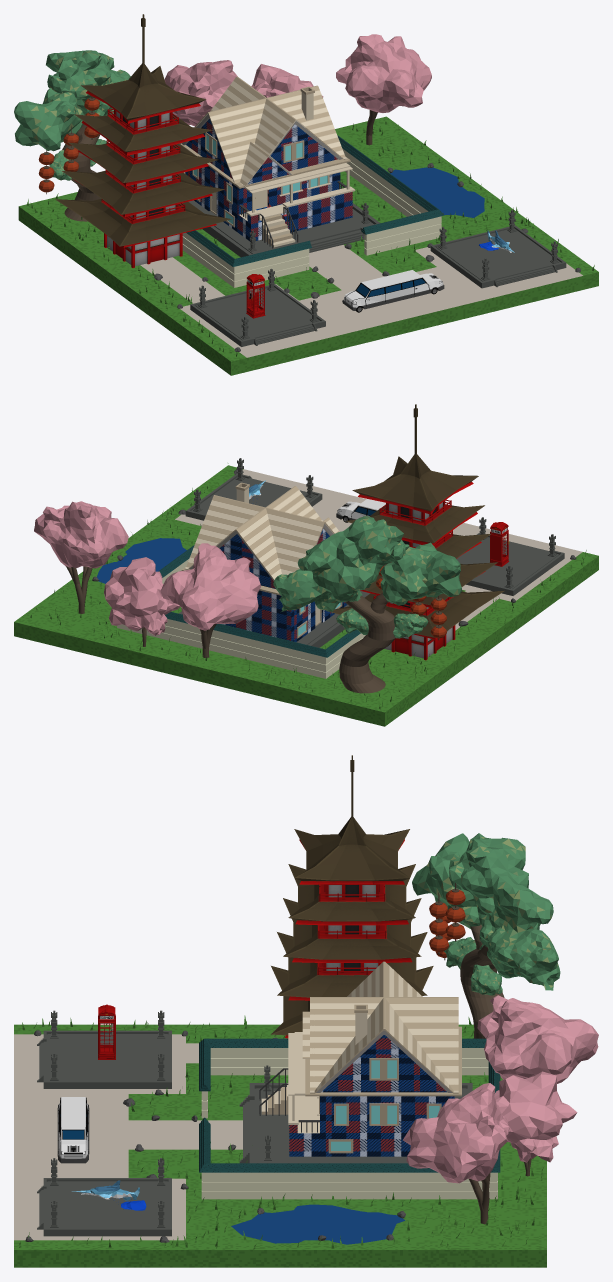
The picture shows the model from 3 angles, top to bottom: view 1: azimuth 30°, elevation 25°; view 2: azimuth 150°, elevation 25°; view 3: azimuth 270°, elevation 25°; orthographic projection. The views are drawn at different scales.
Visible parts, largest first — view 1: Cube.005, Cube.171, VEHICLES_LIMOUSINE, OBJRANDOM_PHONEBOOTH; view 2: Cube.005, Cube.171, OBJRANDOM_PHONEBOOTH, VEHICLES_LIMOUSINE; view 3: Cube.005, Cube.171, VEHICLES_LIMOUSINE, OBJRANDOM_PHONEBOOTH, ANIMAL_PEZ_ESPADA.
Part boxes in pixels (<box>): Cube.005: <box>14,14,598,375</box>; Cube.171: <box>179,76,355,248</box>; VEHICLES_LIMOUSINE: <box>342,270,444,312</box>; OBJRANDOM_PHONEBOOTH: <box>246,274,265,318</box>; Cube.005: <box>14,404,598,726</box>; Cube.171: <box>181,482,347,641</box>; OBJRANDOM_PHONEBOOTH: <box>490,522,509,566</box>; VEHICLES_LIMOUSINE: <box>336,499,385,522</box>; Cube.005: <box>14,755,598,1267</box>; Cube.171: <box>259,961,461,1156</box>; VEHICLES_LIMOUSINE: <box>57,1097,89,1163</box>; OBJRANDOM_PHONEBOOTH: <box>98,1004,115,1059</box>; ANIMAL_PEZ_ESPADA: <box>71,1180,146,1210</box>.
Bounding box in the file's own units: 4528 × 2842 × 4389.
47 materials, 6 textured.
